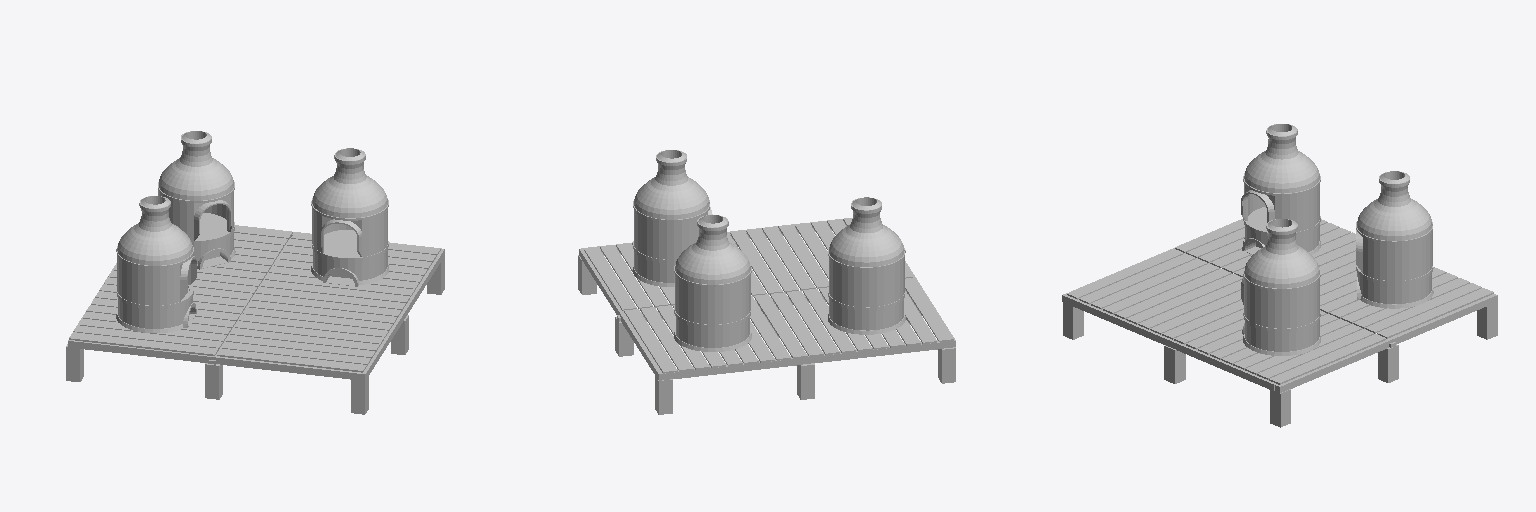
The model's file is smelter.obj.
The picture shows the model from 3 angles: view 1: azimuth 30°, elevation 25°; view 2: azimuth 150°, elevation 25°; view 3: azimuth 270°, elevation 25°; orthographic projection.
Visible parts, largest first — view 1: Cube.019_Cube.025, Cylinder.001_Cylinder.000; view 2: Cube.019_Cube.025, Cylinder.001_Cylinder.000; view 3: Cube.019_Cube.025, Cylinder.001_Cylinder.000.
Boxes of the visible parts, x1,y1,x2,y2 form: Cube.019_Cube.025: [66, 225, 444, 414]; Cylinder.001_Cylinder.000: [116, 131, 388, 332]; Cube.019_Cube.025: [578, 218, 955, 414]; Cylinder.001_Cylinder.000: [633, 150, 905, 351]; Cube.019_Cube.025: [1062, 219, 1497, 427]; Cylinder.001_Cylinder.000: [1241, 124, 1433, 355].
Size of the model in its own units: 11.65 by 4.67 by 11.61.